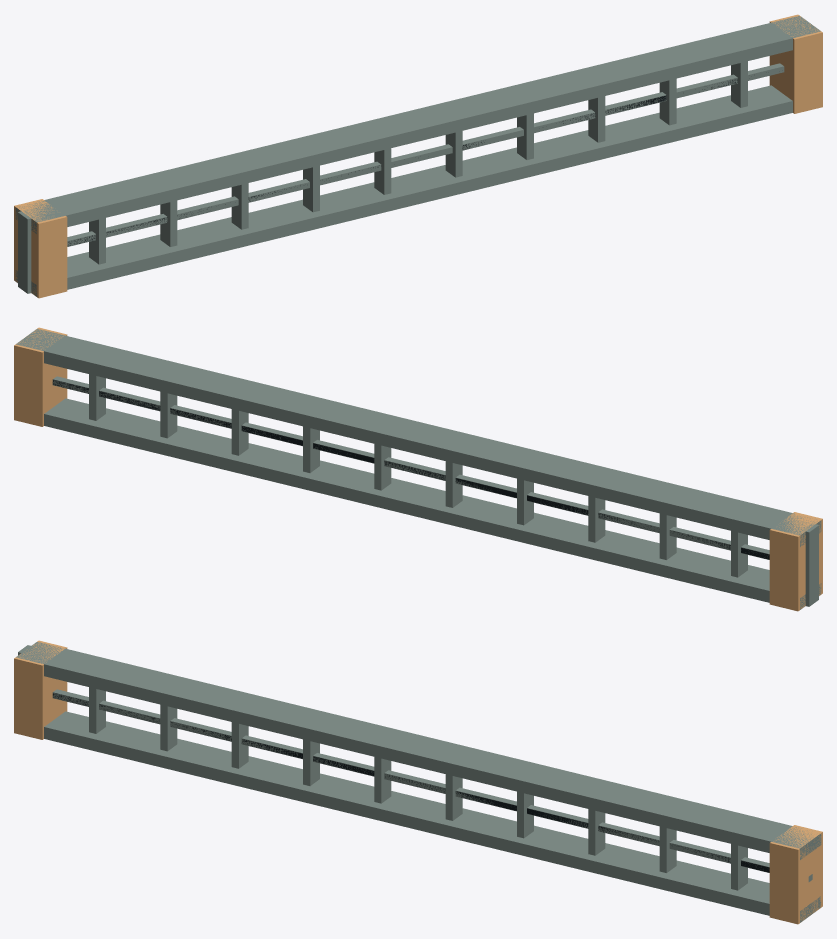
File: gantry-span.glb
3 views of the same model, one above another, from view 1: azimuth 30°, elevation 25°; view 2: azimuth 150°, elevation 25°; view 3: azimuth 330°, elevation 25° (orthographic).
Visible parts, largest first — view 1: gantry-span; view 2: gantry-span; view 3: gantry-span.
Part boxes in pixels (<box>): gantry-span: <box>14,14,822,298</box>; gantry-span: <box>14,327,822,611</box>; gantry-span: <box>14,640,822,924</box>.
Size of the model in its own units: 5.53 by 0.5 by 0.3.
